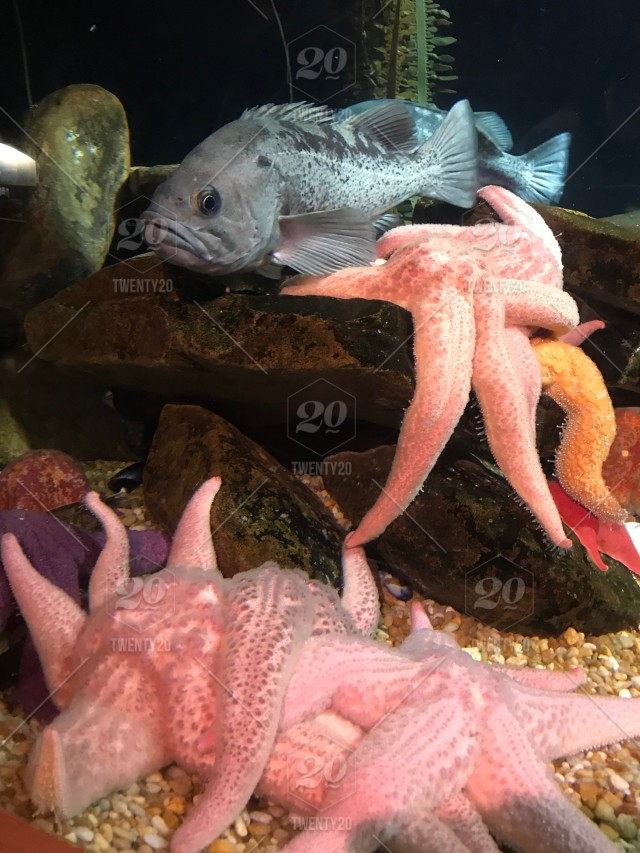fish: (120, 99, 537, 252)
starfish: (32, 513, 612, 853), (359, 210, 586, 577)
